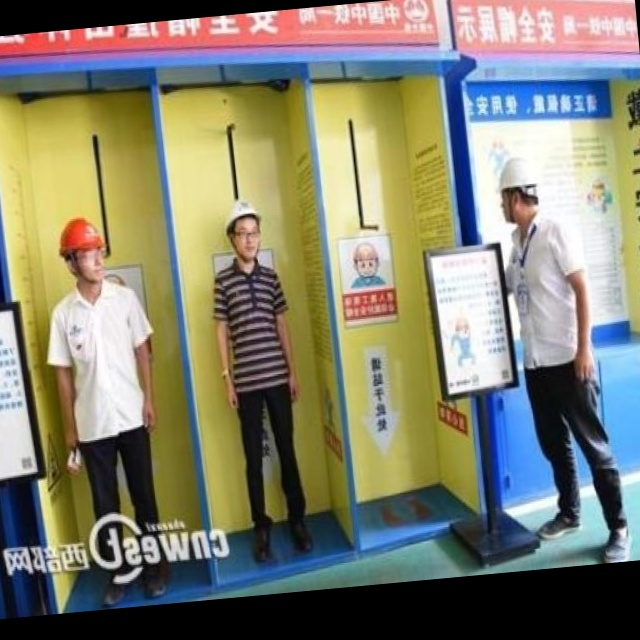Con_Casco: (55, 218, 111, 289), (226, 202, 266, 262)
